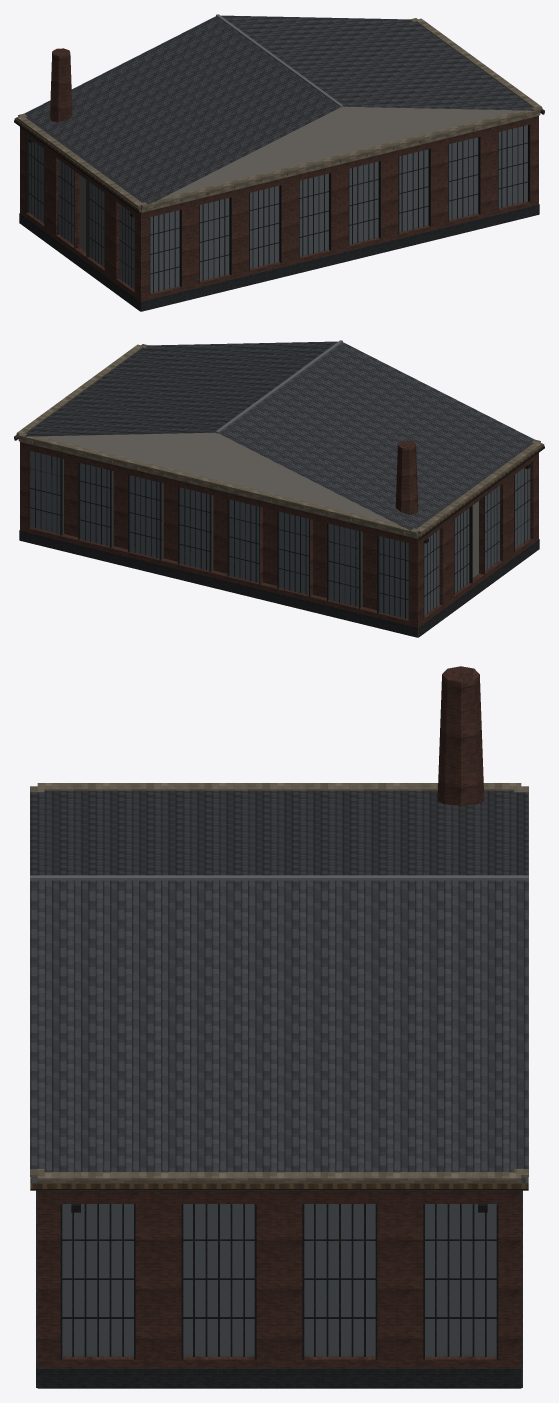
The model's file is B_plateshop.glb.
3 renders of one model, top to bottom at view 1: azimuth 30°, elevation 25°; view 2: azimuth 150°, elevation 25°; view 3: azimuth 270°, elevation 25°, orthographic. The views are drawn at different scales.
Visible parts, largest first — view 1: B_plateshop; view 2: B_plateshop; view 3: B_plateshop.
Boxes of the visible parts, left/top/right/bottom form: B_plateshop: left=14, top=14, right=544, bottom=311; B_plateshop: left=14, top=340, right=544, bottom=637; B_plateshop: left=30, top=666, right=528, bottom=1388.
Bounding box in the file's own units: 38.79 × 16 × 20.64.
9 materials, 6 textured.
